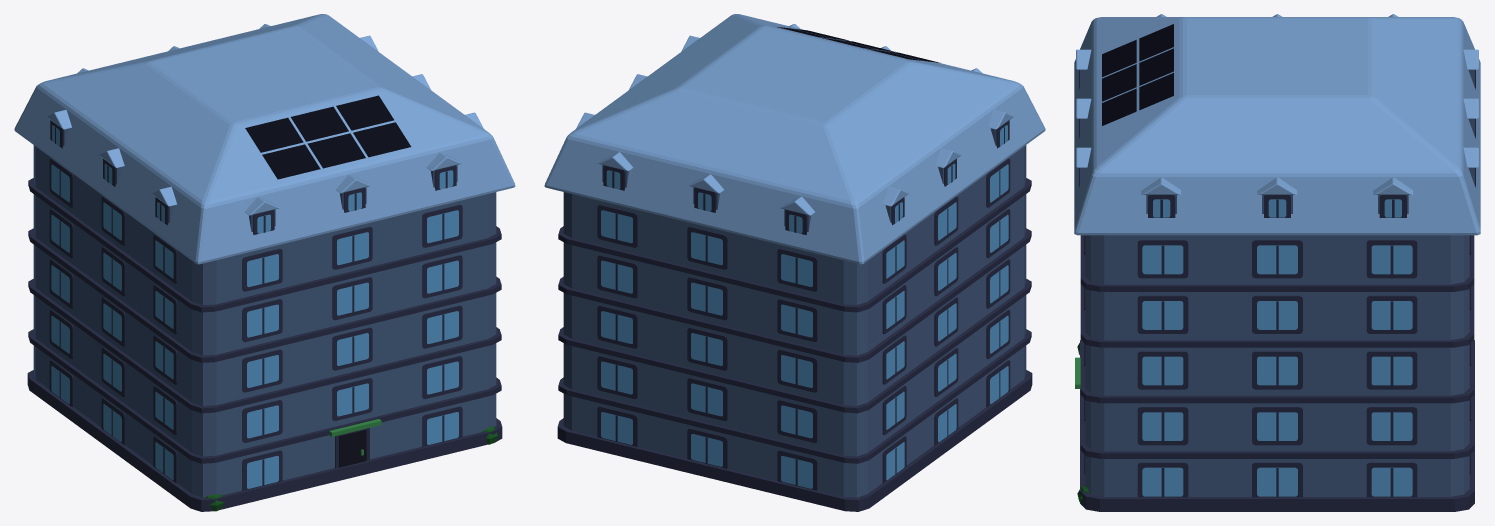
File: house-2x2-5f-mansard-b-solar.glb
The picture shows the model from 3 angles, left to right: view 1: azimuth 30°, elevation 25°; view 2: azimuth 150°, elevation 25°; view 3: azimuth 270°, elevation 25°; orthographic projection. The views are drawn at different scales.
Visible parts, largest first — view 1: house-2x2-5f-mansard-b-solar; view 2: house-2x2-5f-mansard-b-solar; view 3: house-2x2-5f-mansard-b-solar.
Boxes of the visible parts, x1=… form: house-2x2-5f-mansard-b-solar: x1=14, y1=14, x2=515, y2=511; house-2x2-5f-mansard-b-solar: x1=544, y1=14, x2=1045, y2=511; house-2x2-5f-mansard-b-solar: x1=1074, y1=14, x2=1480, y2=511.
Bounding box in the file's own units: 1.99 × 2.01 × 1.99.
Materials: 1 (1 with a texture image).
